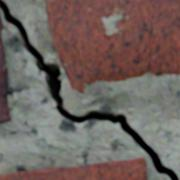brick: (47, 0, 179, 93), (0, 157, 147, 179), (0, 15, 11, 123)
crack: (0, 0, 179, 179)
